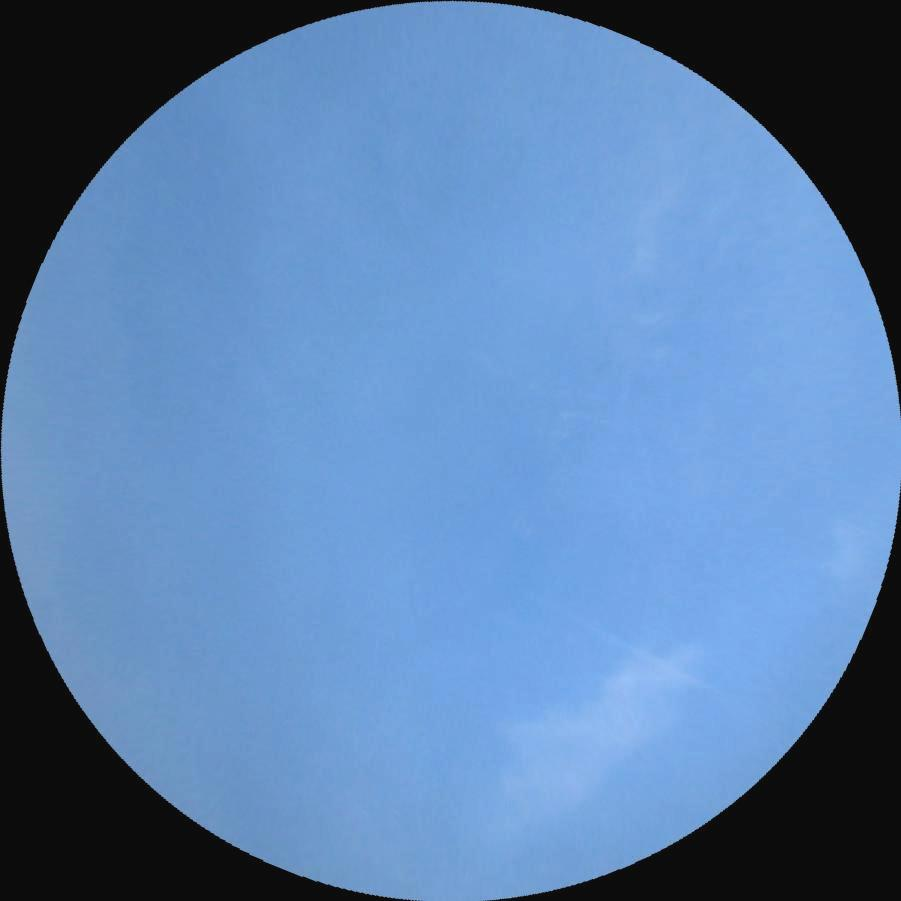unknow: (552, 605, 715, 694)
